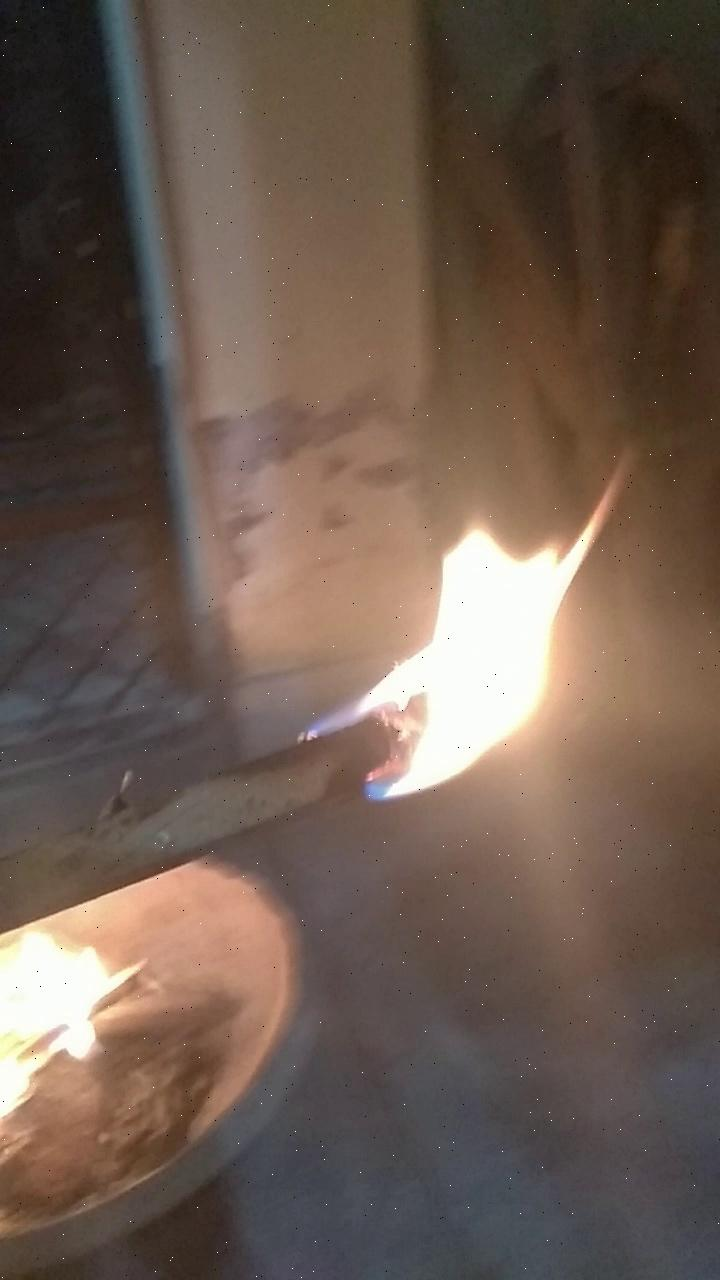fire: (316, 425, 648, 825), (0, 923, 124, 1120)
